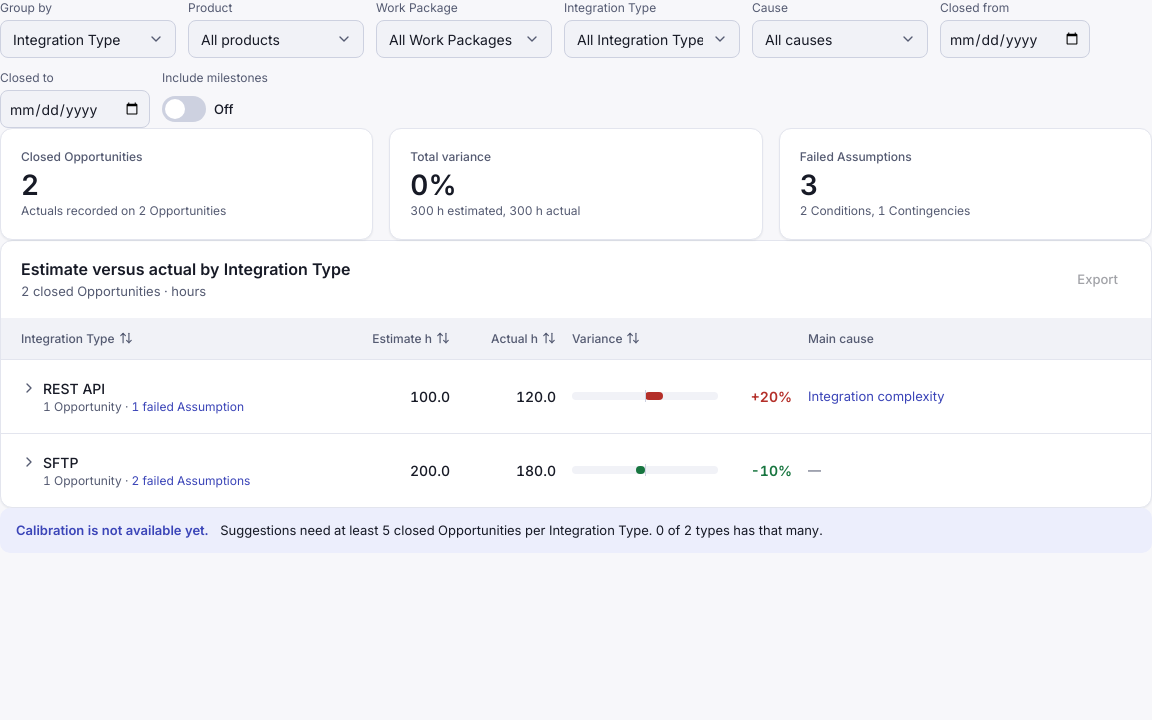
Test case: EstimateVsActual › a failed list that can't load says so
The image size is (1152, 720).
Click the button with aria-label "1 failed Assumption in REST API: show them".
click(188, 407)  # box top-left (132, 399), bottom-right (244, 415)
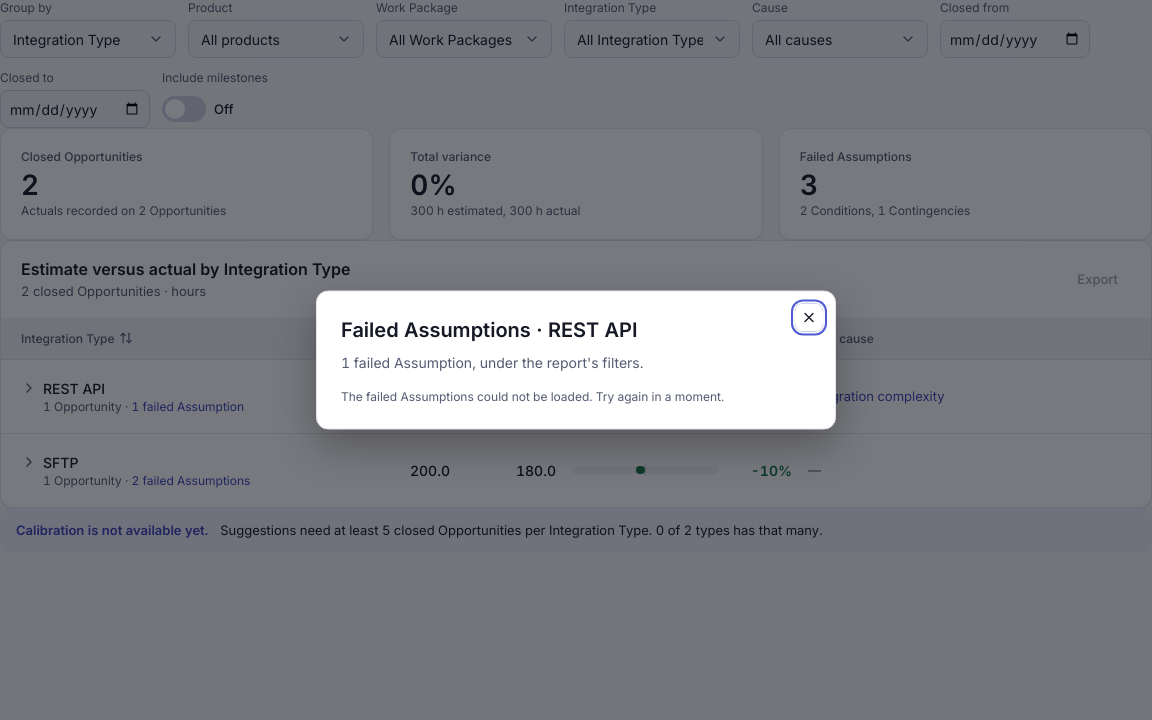
Expected: the text "The failed Assumptions could not be loaded. Try again in a moment." is shown, top-left (341, 388), bottom-right (724, 404)
